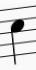note: (7, 3, 26, 66)
